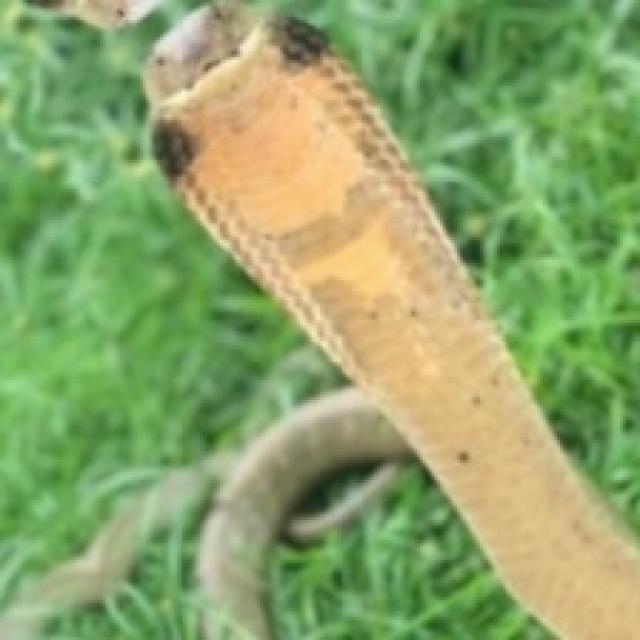king cobra: (0, 0, 343, 609), (254, 0, 637, 534), (269, 463, 551, 637), (46, 506, 203, 637)
